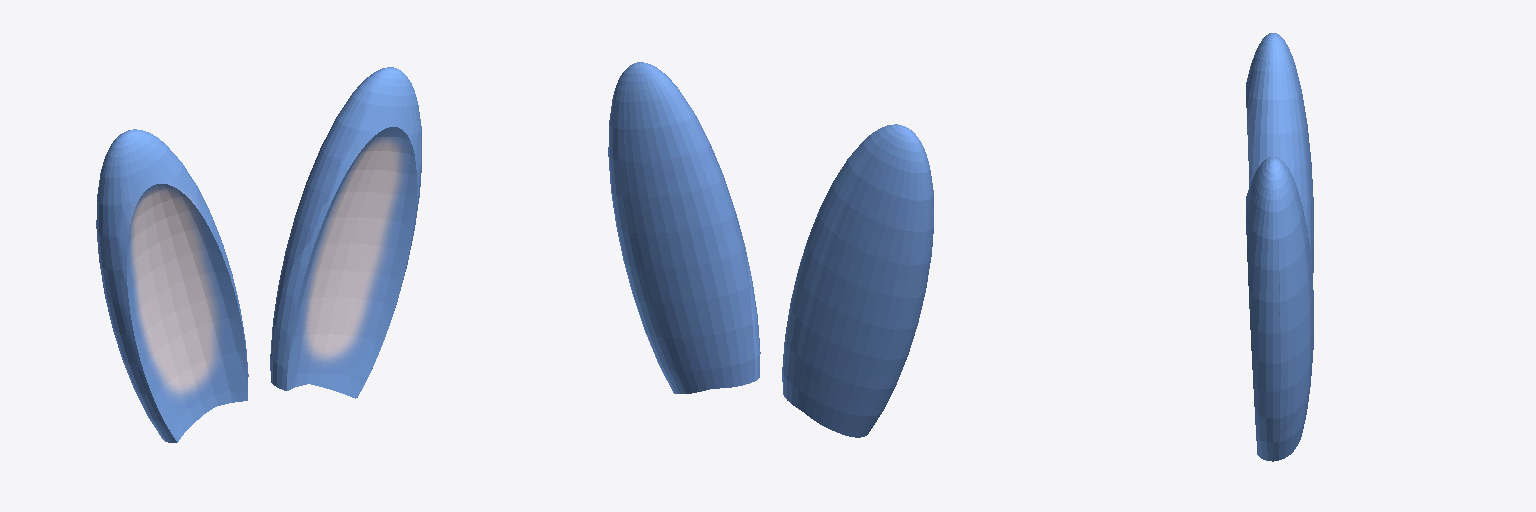
3 views of the same model, side by side, from view 1: azimuth 30°, elevation 25°; view 2: azimuth 150°, elevation 25°; view 3: azimuth 270°, elevation 25° (orthographic).
Visible parts, largest first — view 1: default; view 2: default; view 3: default.
Part boxes in pixels (bbox=[...]): default: bbox=[96, 67, 421, 442]; default: bbox=[608, 62, 933, 437]; default: bbox=[1246, 33, 1313, 461].
Bounding box in the file's own units: 0.2603 × 0.2471 × 0.0483.
1 materials, 1 textured.